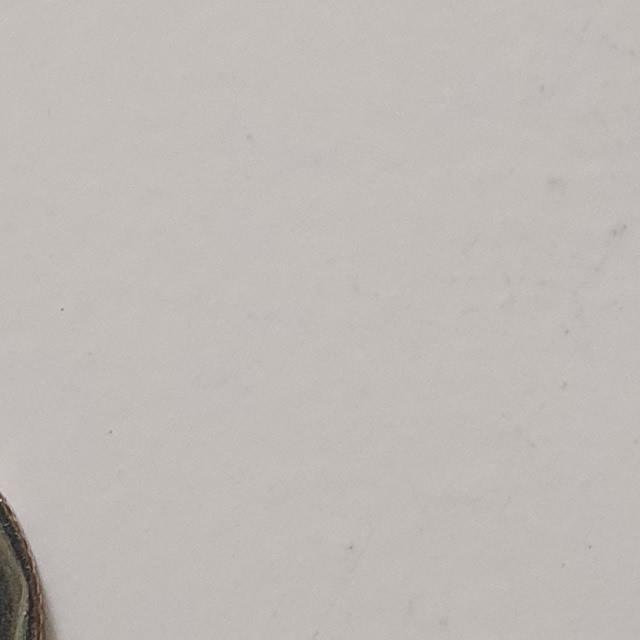5 Bath: (1, 468, 50, 640)
